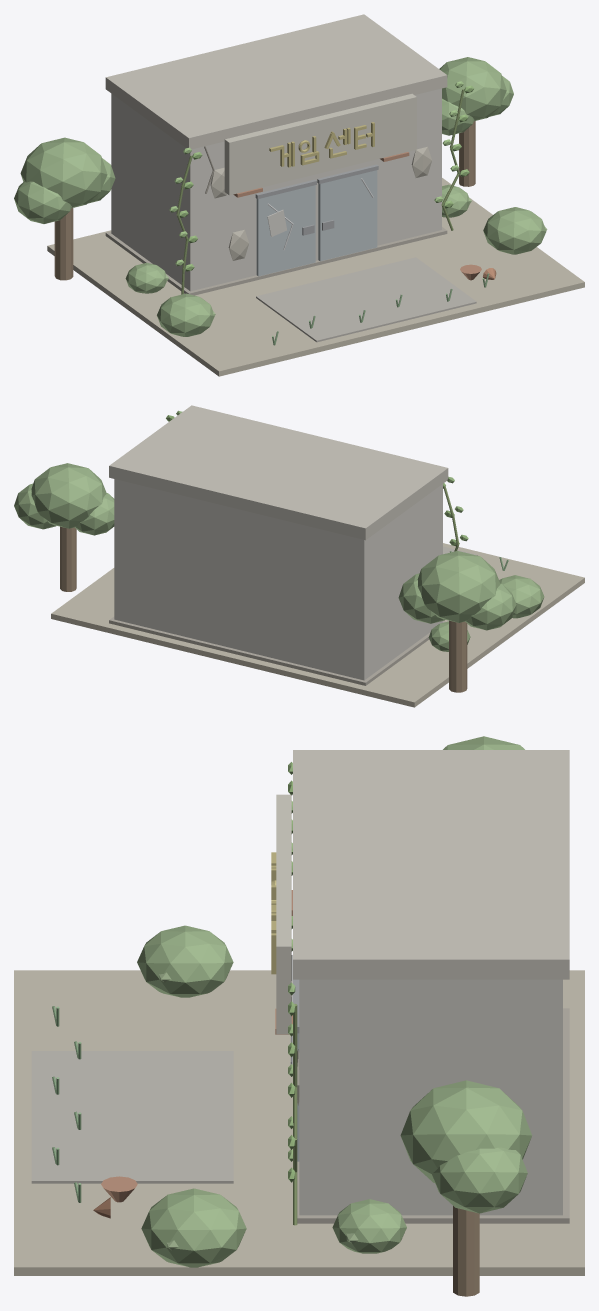
File: arcade.glb
The picture shows the model from 3 angles, top to bottom: view 1: azimuth 30°, elevation 25°; view 2: azimuth 150°, elevation 25°; view 3: azimuth 270°, elevation 25°; orthographic projection. The views are drawn at different scales.
Visible parts, largest first — view 1: part_21, part_23, part_19, part_06, part_22, part_17, part_16, part_07, part_14, part_18, part_20, part_10 (+4 smaller); view 2: part_23, part_21, part_06, part_19, part_07, part_14; view 3: part_19, part_21, part_23, part_06, part_17, part_22, part_14, part_07, part_03, part_15, part_18, part_05.
Boxes of the visible parts, x1,y1,x2,y2 form: part_21: (105, 14, 447, 149); part_23: (111, 88, 441, 291); part_19: (47, 178, 584, 376); part_06: (14, 57, 546, 336); part_22: (224, 93, 416, 195); part_17: (256, 257, 476, 342); part_16: (256, 170, 377, 276); part_07: (54, 121, 475, 280); part_14: (105, 227, 447, 295); part_18: (269, 122, 374, 167); part_20: (210, 146, 431, 260); part_10: (255, 164, 378, 235); part_23: (114, 479, 442, 680); part_21: (109, 405, 448, 540); part_06: (14, 463, 544, 651); part_19: (51, 543, 584, 707); part_07: (60, 526, 467, 692); part_14: (109, 616, 445, 685); part_19: (14, 970, 584, 1275); part_21: (293, 750, 569, 979); part_23: (299, 979, 562, 1215); part_06: (137, 736, 532, 1267); part_17: (31, 1051, 233, 1183); part_22: (276, 794, 291, 1034); part_14: (297, 1008, 569, 1223); part_07: (453, 1206, 479, 1296); part_03: (293, 1003, 297, 1225); part_15: (101, 890, 292, 1202); part_18: (271, 852, 276, 974); part_05: (52, 1006, 81, 1202).
Bounding box in the file's own units: 21.65 × 6.86 × 13.
